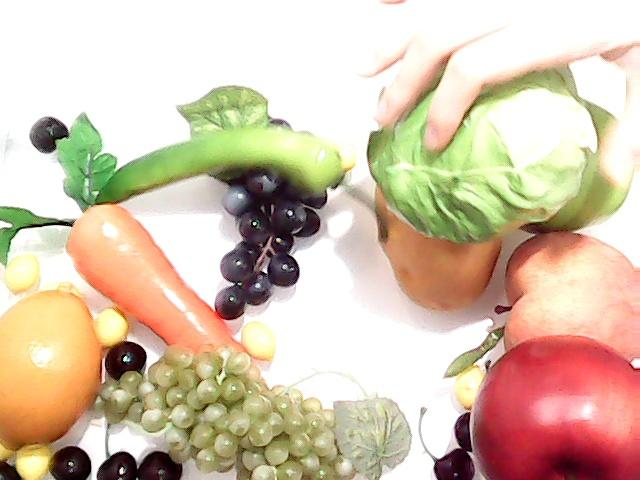apple: (464, 332, 640, 478), (514, 84, 636, 232)
cabbage: (370, 51, 594, 247)
carrot: (0, 113, 248, 357)
grape: (90, 348, 416, 480), (206, 116, 314, 322)
lemon: (0, 268, 111, 454)
peach: (495, 230, 640, 362)
pepper: (87, 118, 356, 206)
potato: (375, 180, 505, 310)
